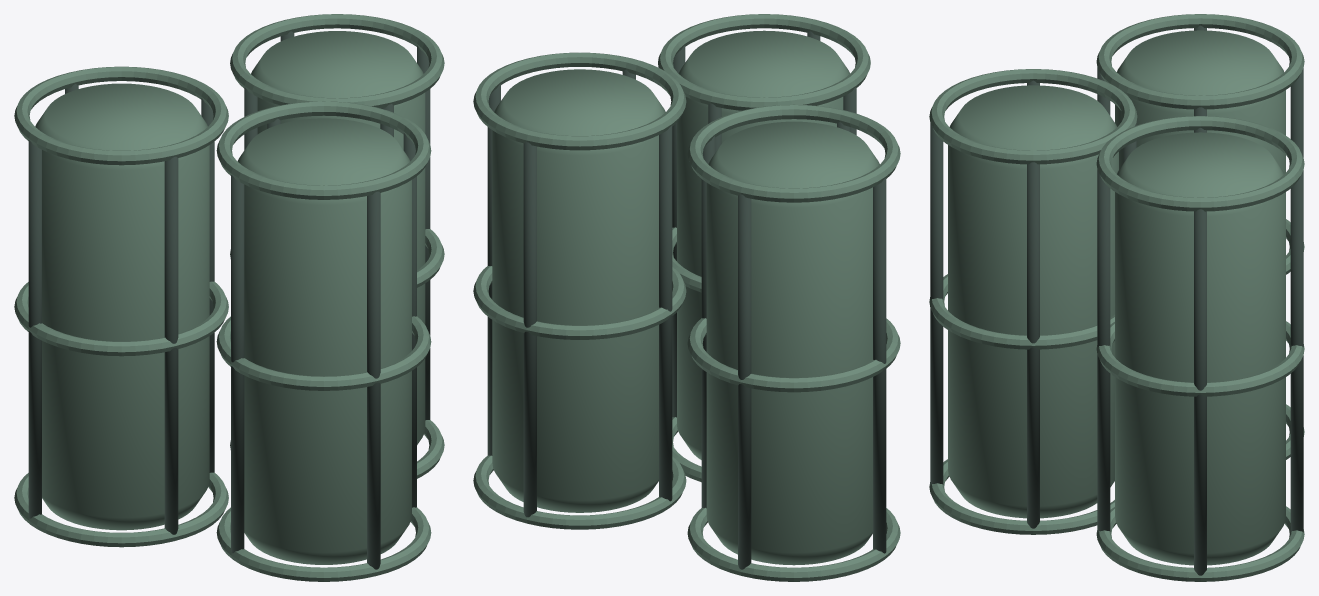
3 renders of one model, left to right at view 1: azimuth 30°, elevation 25°; view 2: azimuth 150°, elevation 25°; view 3: azimuth 270°, elevation 25°, orthographic. The views are drawn at different scales.
Parts seen in each view (by area): view 1: TI051 / bulk food canister.002, TI051 / bulk food canister, TI051 / bulk food canister.001, TI051 / canister end frame.002, TI051 / canister end frame.008, TI051 / canister end frame.005, TI051 / canister protective rail.003, TI051 / canister protective rail.011, TI051 / canister protective rail.002, TI051 / canister protective rail.010, TI051 / canister end frame, TI051 / canister end frame.001 (+7 smaller); view 2: TI051 / bulk food canister, TI051 / bulk food canister.001, TI051 / bulk food canister.002, TI051 / canister end frame.002, TI051 / canister end frame.005, TI051 / canister end frame.008, TI051 / canister protective rail.005, TI051 / canister protective rail.001, TI051 / canister protective rail.006, TI051 / canister protective rail.002, TI051 / canister end frame, TI051 / canister end frame.003 (+7 smaller); view 3: TI051 / bulk food canister.001, TI051 / bulk food canister.002, TI051 / bulk food canister, TI051 / canister end frame.005, TI051 / canister end frame.002, TI051 / canister end frame.008, TI051 / canister protective rail.004, TI051 / canister protective rail.007, TI051 / canister protective rail.008, TI051 / canister protective rail.005, TI051 / canister protective rail.011, TI051 / canister end frame.003 (+4 smaller).
Boxes of the visible parts, x1,y1,x2,y2 form: TI051 / bulk food canister.002: (237, 118, 411, 564); TI051 / bulk food canister: (35, 83, 209, 530); TI051 / bulk food canister.001: (251, 31, 425, 444); TI051 / canister end frame.002: (14, 66, 228, 165); TI051 / canister end frame.008: (216, 101, 431, 199); TI051 / canister end frame.005: (230, 14, 444, 108); TI051 / canister protective rail.003: (164, 156, 178, 534); TI051 / canister protective rail.011: (367, 191, 380, 569); TI051 / canister protective rail.002: (28, 140, 41, 518); TI051 / canister protective rail.010: (231, 175, 244, 553); TI051 / canister end frame: (14, 472, 228, 547); TI051 / canister end frame.001: (14, 281, 228, 356); TI051 / bulk food canister: (706, 121, 879, 565); TI051 / bulk food canister.001: (492, 69, 665, 512); TI051 / bulk food canister.002: (677, 30, 849, 459); TI051 / canister end frame.002: (687, 104, 900, 202); TI051 / canister end frame.005: (473, 52, 686, 150); TI051 / canister end frame.008: (658, 14, 870, 110); TI051 / canister protective rail.005: (523, 142, 536, 517); TI051 / canister protective rail.001: (738, 194, 751, 569); TI051 / canister protective rail.006: (659, 125, 672, 501); TI051 / canister protective rail.002: (873, 178, 886, 553); TI051 / canister end frame: (687, 507, 900, 581); TI051 / canister end frame.003: (473, 455, 686, 529); TI051 / bulk food canister.001: (1115, 132, 1285, 565); TI051 / bulk food canister.002: (948, 85, 1118, 518); TI051 / bulk food canister: (1115, 30, 1285, 173); TI051 / canister end frame.005: (1096, 116, 1304, 211); TI051 / canister end frame.002: (1096, 14, 1304, 109); TI051 / canister end frame.008: (929, 69, 1137, 164); TI051 / canister protective rail.004: (1194, 209, 1206, 575); TI051 / canister protective rail.007: (1097, 170, 1110, 532); TI051 / canister protective rail.008: (1027, 162, 1039, 528); TI051 / canister protective rail.005: (1290, 170, 1303, 532); TI051 / canister protective rail.011: (930, 123, 943, 485); TI051 / canister end frame.003: (1096, 506, 1304, 581).
Bounding box in the file's own units: 2.42 × 2.28 × 2.02.
